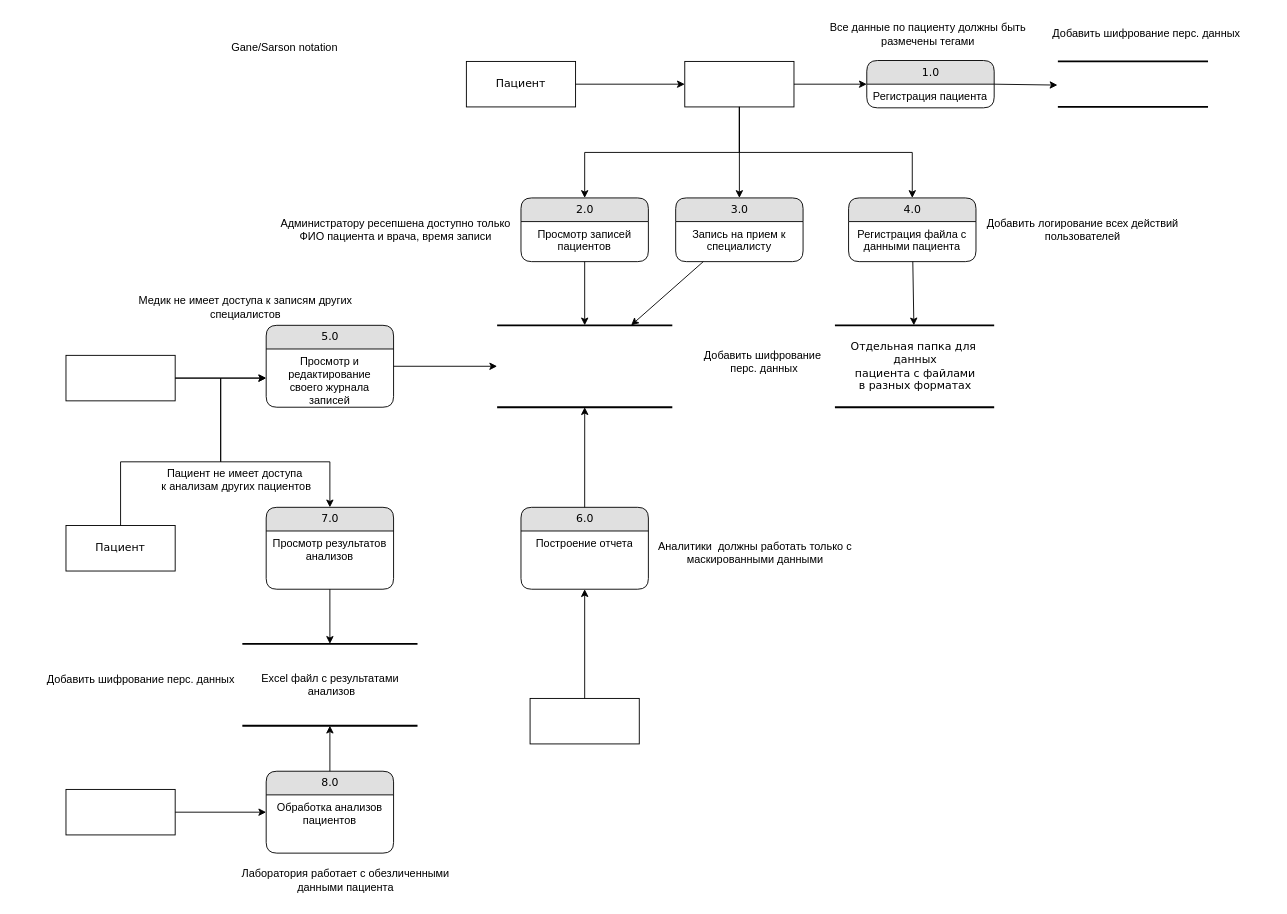
This 1287x914 diagram has some shape labels left out. Each missing label, with the box of its shape:
Excel файлы с данными о пациентах: (1057, 60, 1208, 107)
бизнес-аналитик: (529, 698, 639, 744)
Лаборатория: (65, 789, 175, 835)
Медицинский специалист: (65, 354, 175, 401)
Папка Journals Excel файл: Журнал приема к специалисту: (496, 324, 673, 408)
Ресепшен: (684, 61, 794, 107)
